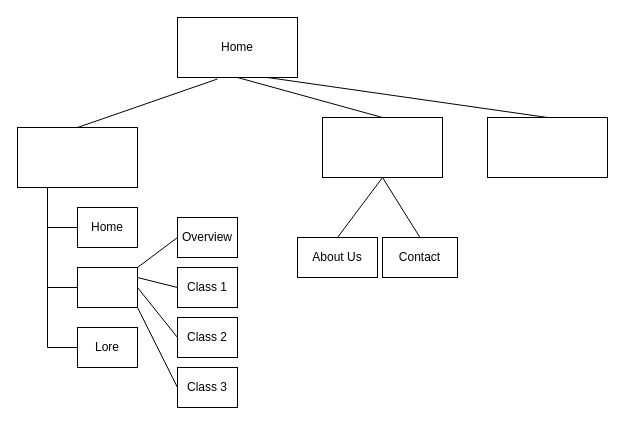
Some shapes in this 625 by 425 pixel diagram are drawn without their labels. The shapes that lost their labels are listed below. From the top down, each one's centre as x and y in pixels, then its label:
(x=77, y=157): Top Navbar
(x=382, y=147): Bottom Navbar
(x=547, y=147): Page Content
(x=107, y=287): Classes
